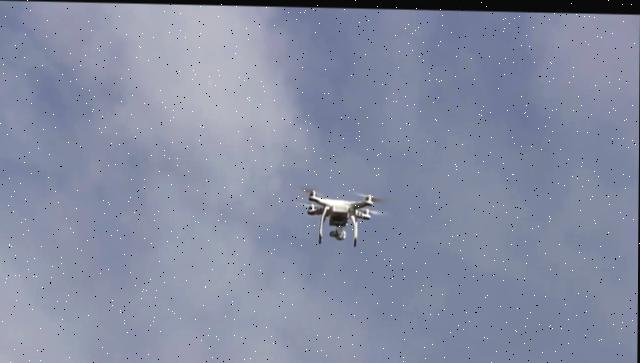drone: (302, 184, 380, 244)
